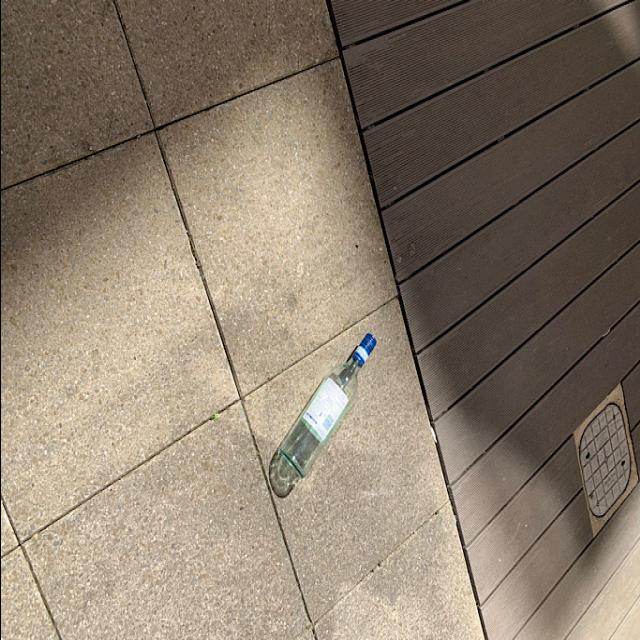Glass Bottle: (276, 325, 382, 486)
